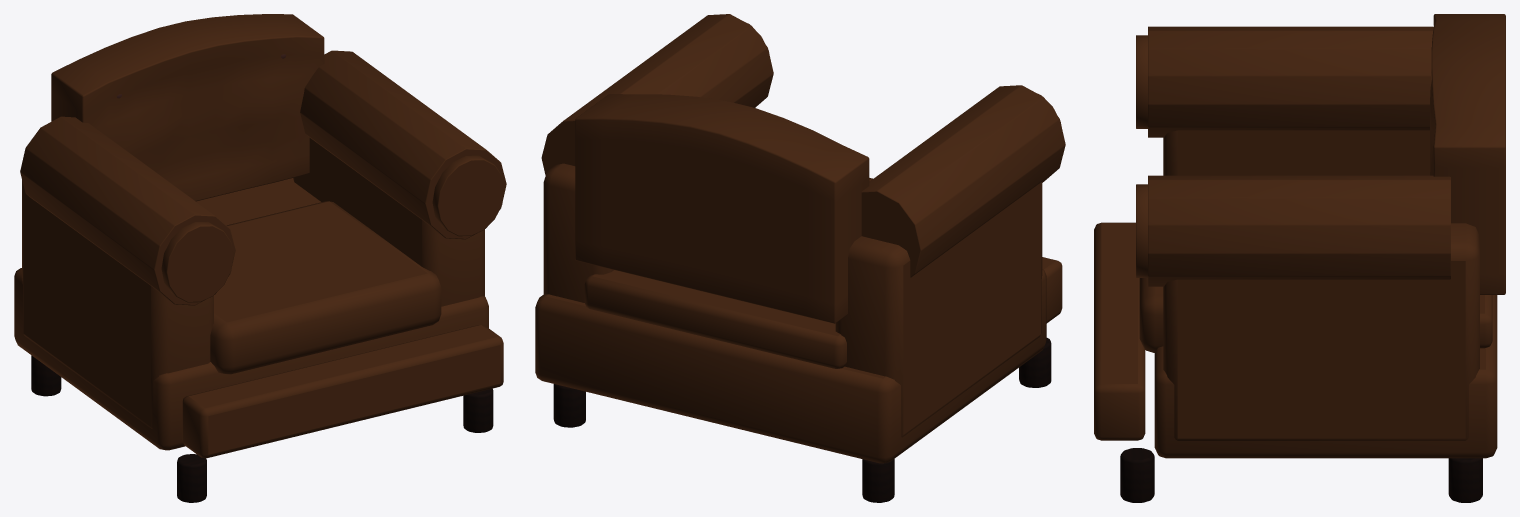
File: chair_high_end_lod2.glb
3 renders of one model, left to right at view 1: azimuth 30°, elevation 25°; view 2: azimuth 150°, elevation 25°; view 3: azimuth 270°, elevation 25°, orthographic. The views are drawn at different scales.
Parts seen in each view (by area): view 1: LoungeBody_LOD2, LoungeWood_LOD2; view 2: LoungeBody_LOD2, LoungeWood_LOD2; view 3: LoungeBody_LOD2, LoungeWood_LOD2.
Part boxes in pixels (left/top/right/bottom): LoungeBody_LOD2: left=14, top=14, right=506, bottom=458; LoungeWood_LOD2: left=31, top=355, right=493, bottom=502; LoungeBody_LOD2: left=535, top=14, right=1065, bottom=463; LoungeWood_LOD2: left=553, top=338, right=1051, bottom=502; LoungeBody_LOD2: left=1094, top=14, right=1505, bottom=458; LoungeWood_LOD2: left=1120, top=448, right=1482, bottom=502.
Size of the model in its own units: 1.03 by 0.8937 by 0.9275.
Materials: 3 (1 with a texture image).
